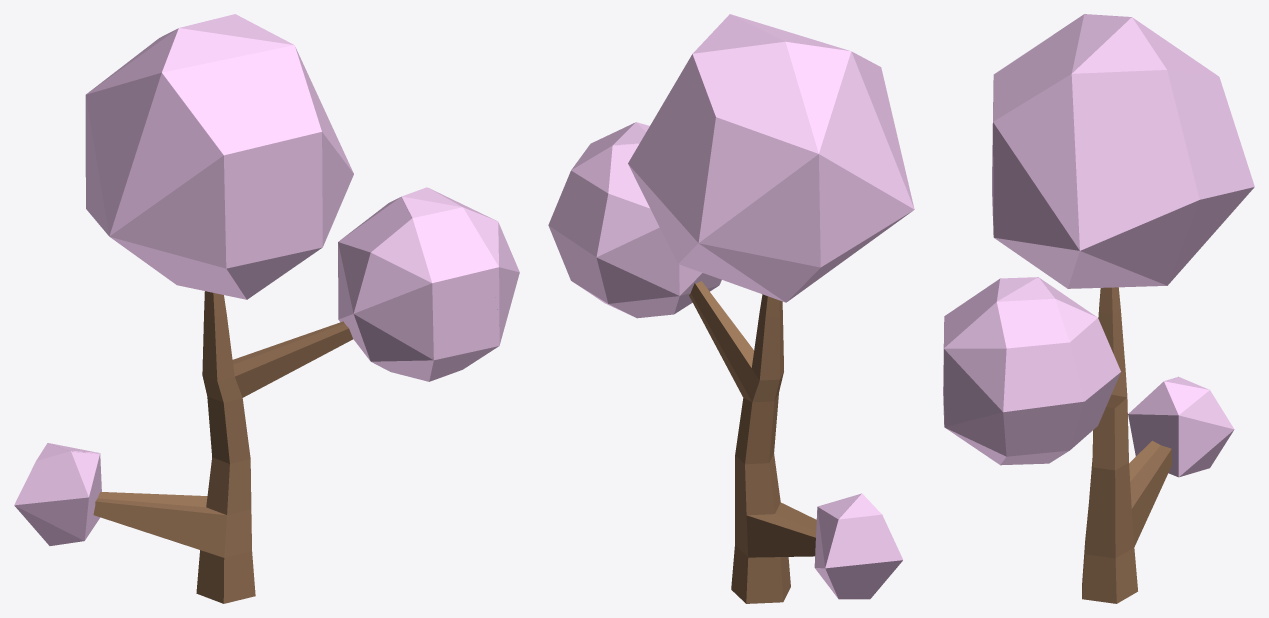
Rendered from branchesTree.fbx.
The picture shows the model from 3 angles, left to right: view 1: azimuth 30°, elevation 25°; view 2: azimuth 150°, elevation 25°; view 3: azimuth 270°, elevation 25°; orthographic projection. The views are drawn at different scales.
Visible parts, largest first — view 1: Sphere, Sphere.001, Cylinder.001, Sphere.002; view 2: Sphere, Sphere.001, Cylinder.001, Sphere.002; view 3: Sphere, Sphere.001, Cylinder.001, Sphere.002.
Boxes of the visible parts, <box> form: Sphere: <box>85,14,353,299</box>; Sphere.001: <box>338,187,519,381</box>; Cylinder.001: <box>93,291,352,603</box>; Sphere.002: <box>14,443,101,545</box>; Sphere: <box>628,14,914,302</box>; Sphere.001: <box>548,122,721,318</box>; Cylinder.001: <box>689,281,816,603</box>; Sphere.002: <box>814,493,902,599</box>; Sphere: <box>992,14,1254,288</box>; Sphere.001: <box>943,277,1120,465</box>; Cylinder.001: <box>1082,287,1172,603</box>; Sphere.002: <box>1128,376,1234,477</box>.
Bounding box in the file's own units: 3934 × 5073 × 2573.
4 materials, 4 textured.
